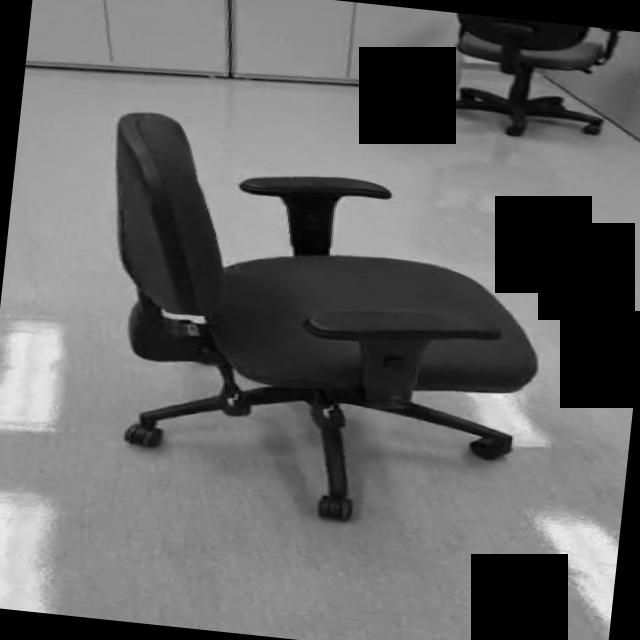cadeira-azul: (80, 109, 558, 540)
